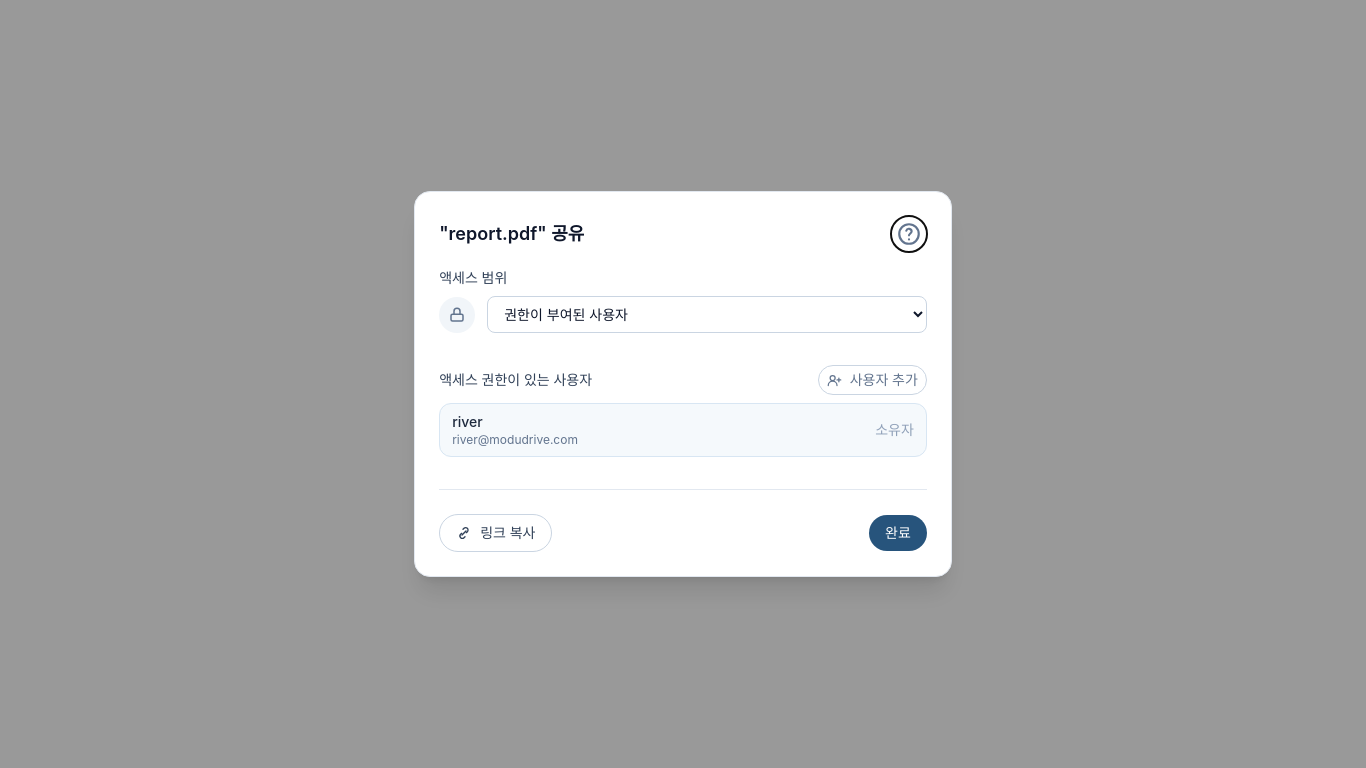
Test case: ShareModal › shows the link role as a fixed 뷰어 badge once LINK is staged
Select "링크가 있는 모든 사용자" in the dropdown: (707, 314) left=487, top=296, right=927, bottom=333
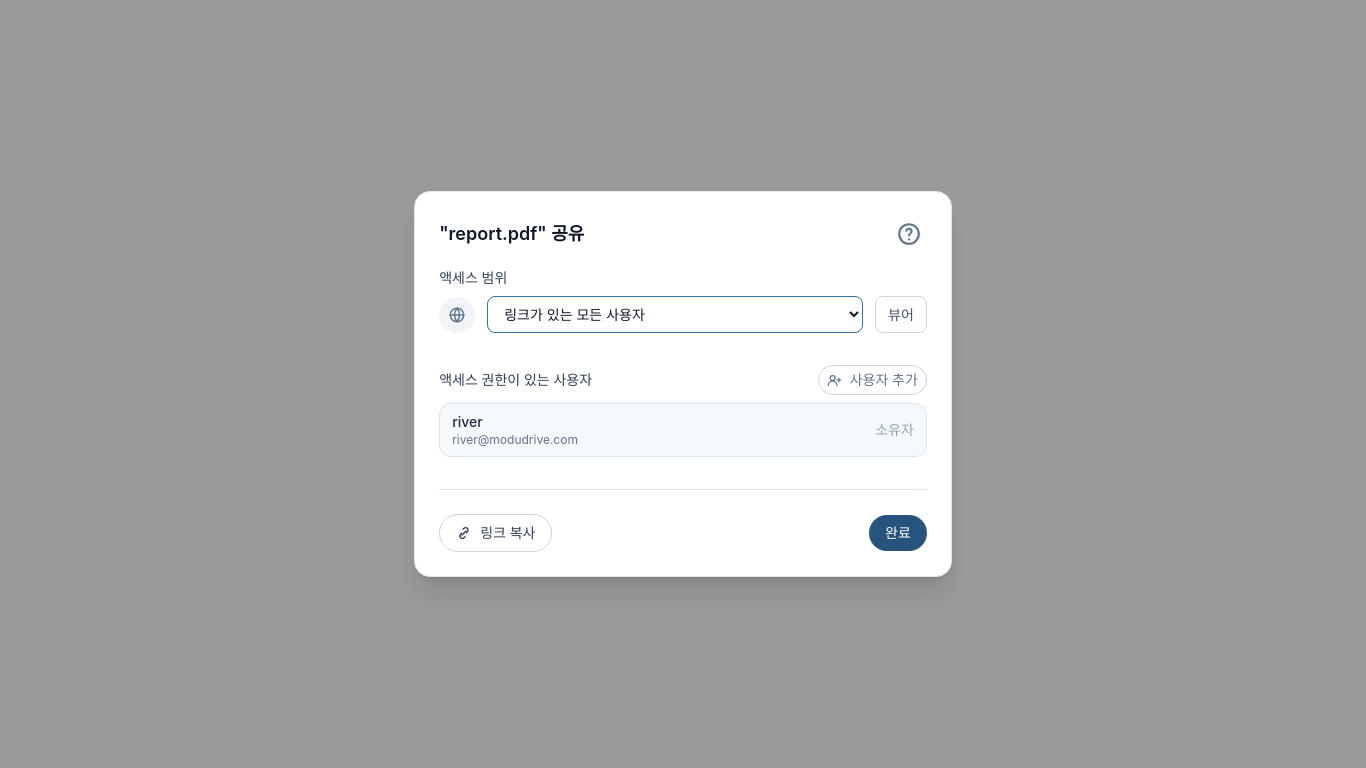
Check: the text with test id "link-role-badge" reads "뷰어", box left=888, top=306, right=914, bottom=322
